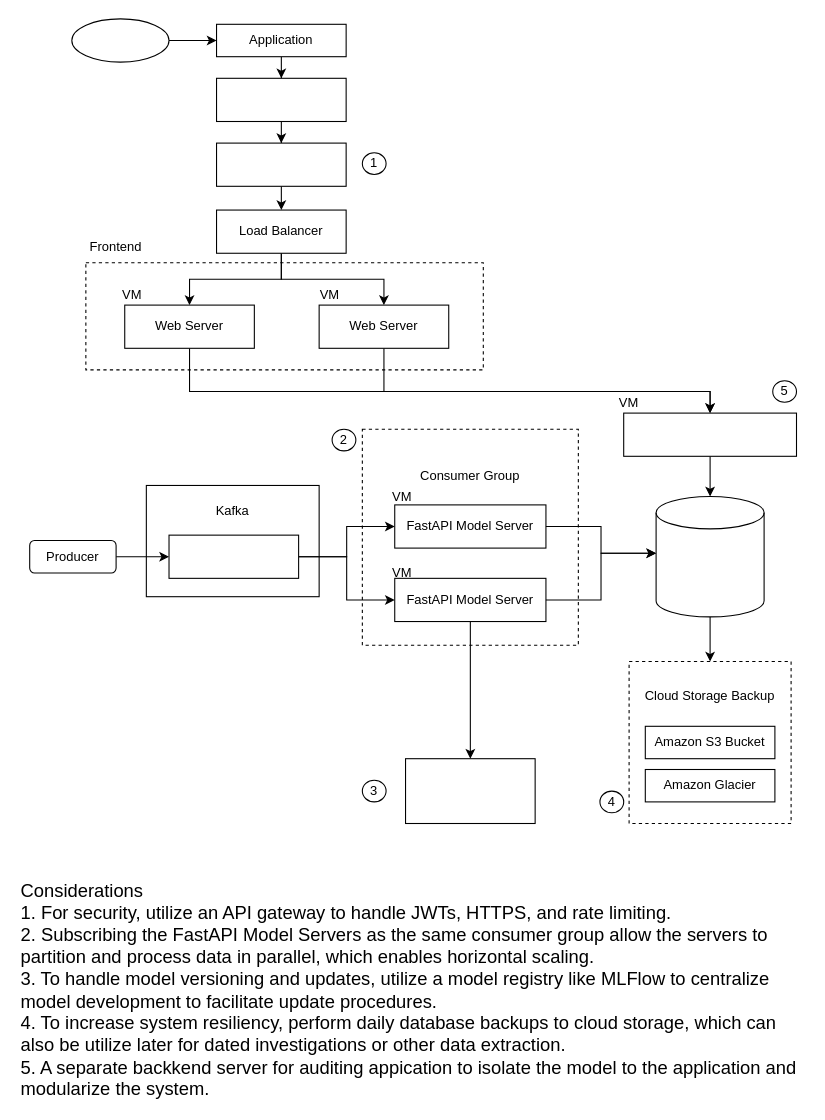
This 825x1120 diagram has some shape labels left out. Here are the shapes that lost their labels. From the top down, the centre of each, then its label:
[120,40]: Auditor
[280,99]: DNS
[280,164]: API Gateway
[709,434]: Backend Server for Retrieval and Update
[233,556]: Transaction Topic
[709,556]: Fraud Database (Postgres)
[469,791]: Model Registry (MLFlow)
